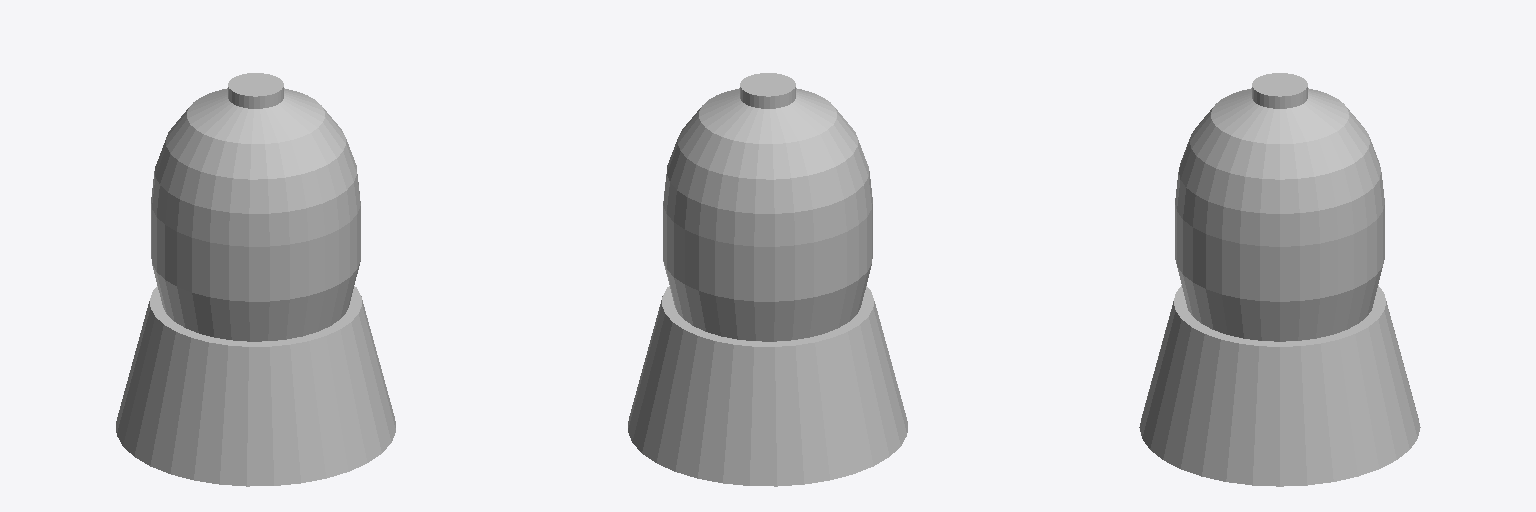
The model's file is power_mine.obj.
3 views of the same model, side by side, from view 1: azimuth 30°, elevation 25°; view 2: azimuth 150°, elevation 25°; view 3: azimuth 270°, elevation 25° (orthographic).
Parts seen in each view (by area): view 1: Cylinder; view 2: Cylinder; view 3: Cylinder.
Part boxes in pixels (left/top/right/bottom): Cylinder: left=116, top=73, right=395, bottom=486; Cylinder: left=628, top=73, right=907, bottom=486; Cylinder: left=1139, top=73, right=1420, bottom=486.
Size of the model in its own units: 18.51 by 24.88 by 18.51.